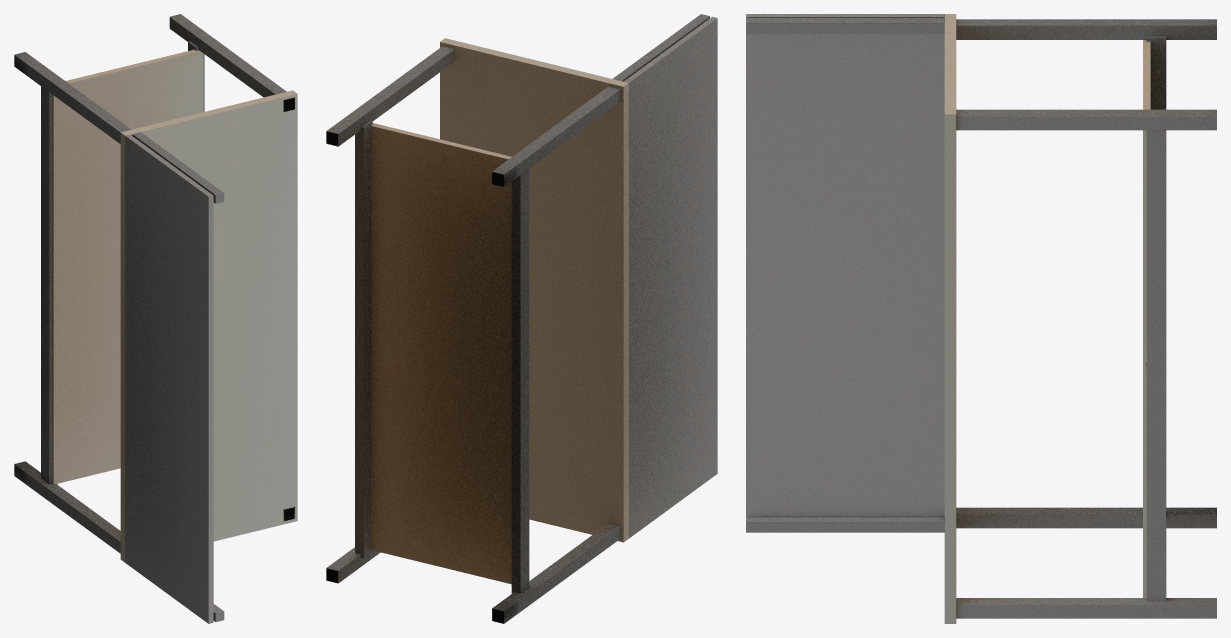
3 renders of one model, left to right at view 1: azimuth 30°, elevation 25°; view 2: azimuth 150°, elevation 25°; view 3: azimuth 270°, elevation 25°, orthographic. The views are drawn at different scales.
Visible parts, largest first — view 1: A3_final_2.001; view 2: A3_final_2.001; view 3: A3_final_2.001.
Boxes of the visible parts, x1,y1,x2,y2 form: A3_final_2.001: (14,14,297,623); A3_final_2.001: (326,14,717,623); A3_final_2.001: (746,14,1216,623).
Bounding box in the file's own units: 0.61 × 1.45 × 1.21.
Materials: 1 (1 with a texture image).
